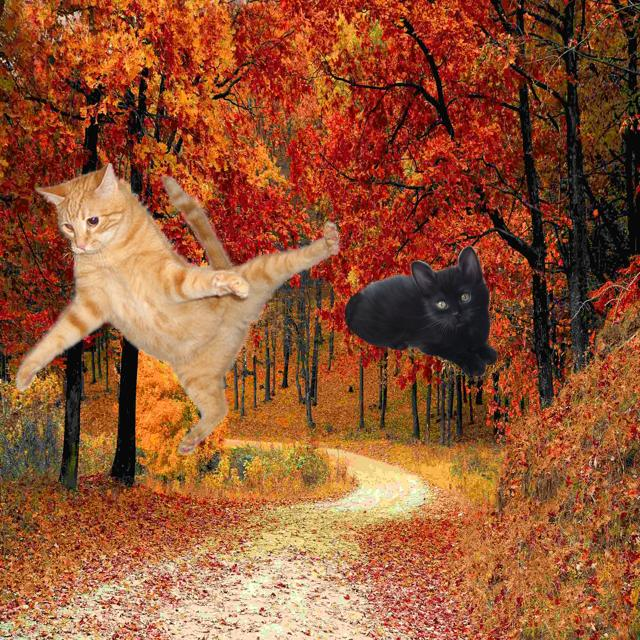cat: (14, 165, 339, 455), (344, 245, 498, 377)
